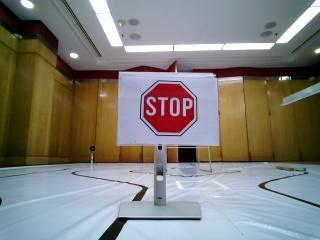stop: (127, 66, 221, 151)
